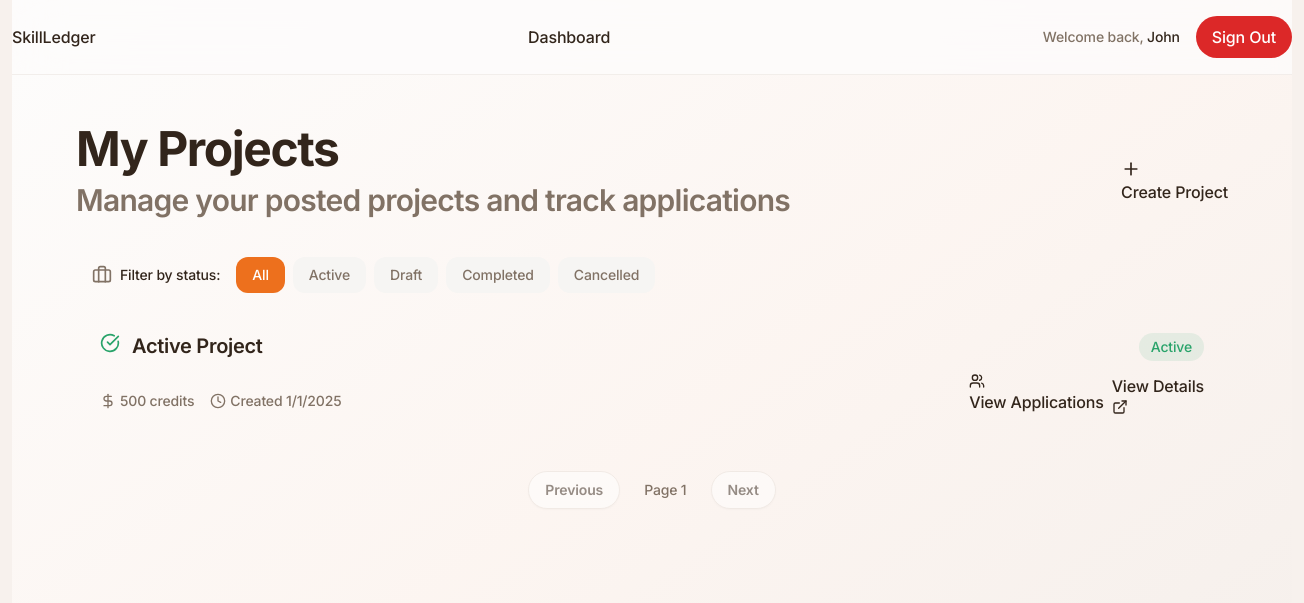
Test: MyProjectsPage - Status Filtering › should show filtered empty state message
This screenshot has width=1304, height=603.
Expected: the heading "Active Project" is shown, top-left (132, 332), bottom-right (263, 358)
Click the button "Completed".
click(498, 274)  # box top-left (446, 256), bottom-right (550, 292)
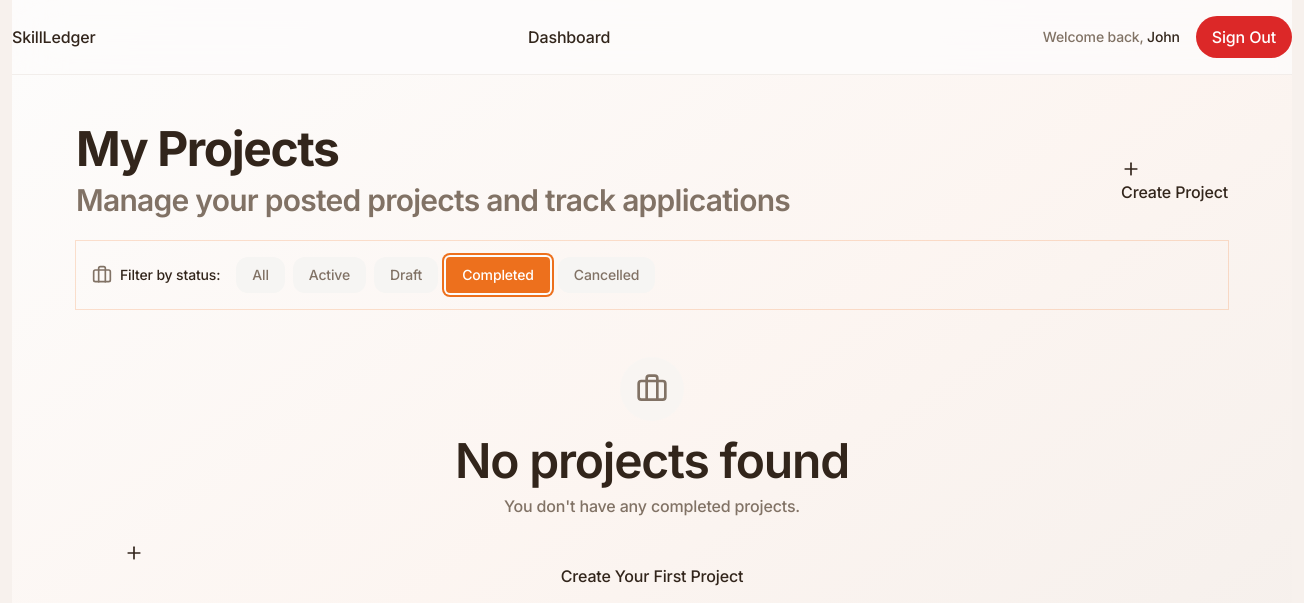
Result: the text "You don't have any completed projects." is shown at top-left (504, 496), bottom-right (800, 516)
